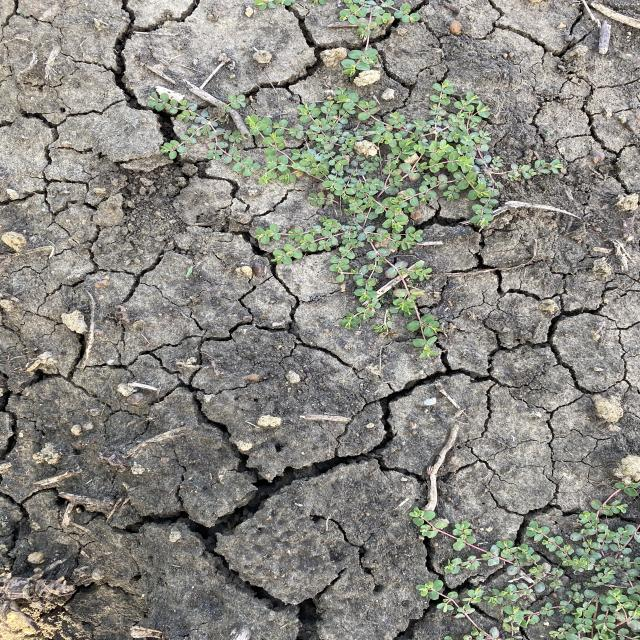SpottedSpurge: (149, 79, 565, 360), (404, 475, 638, 639), (246, 0, 421, 75)
